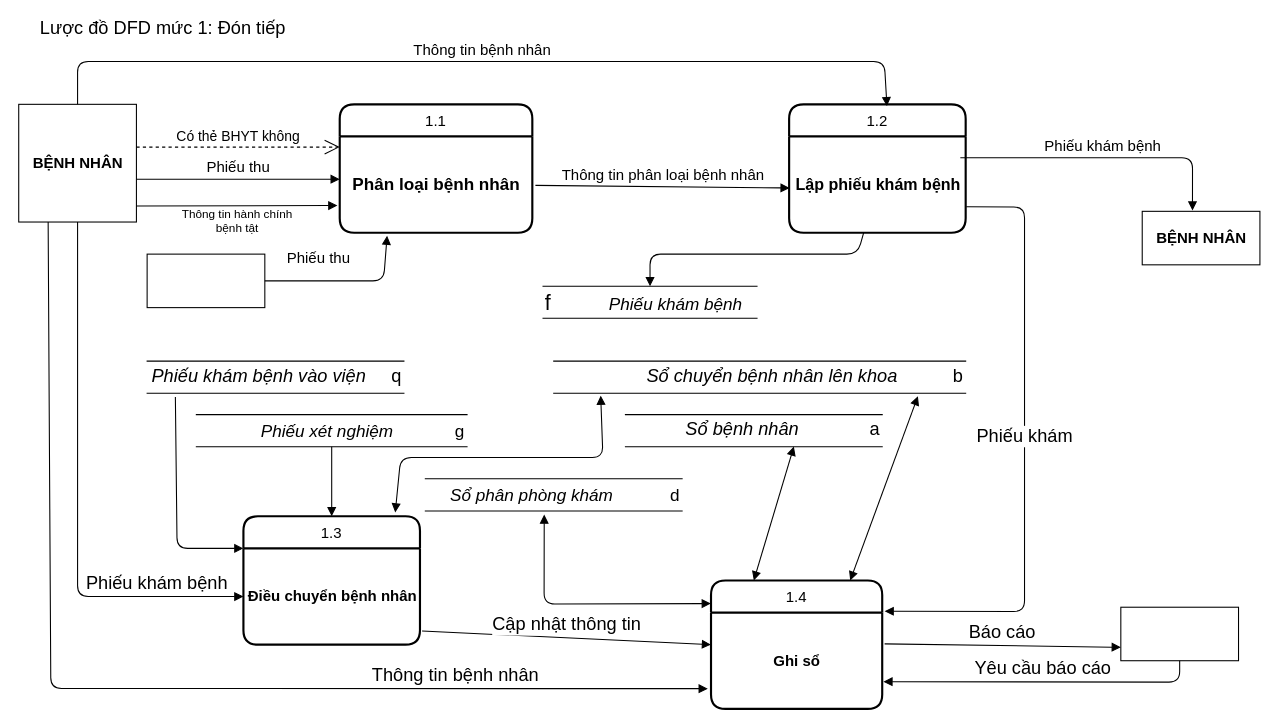
Some shapes in this 1279 by 728 pixel diagram are drawn without their labels. Here are the shapes that lost their labels. From the top down, the box of each, then its label:
(146, 253, 265, 308): BP THANH TOÁN
(1120, 606, 1239, 661): LÃNH ĐẠO
